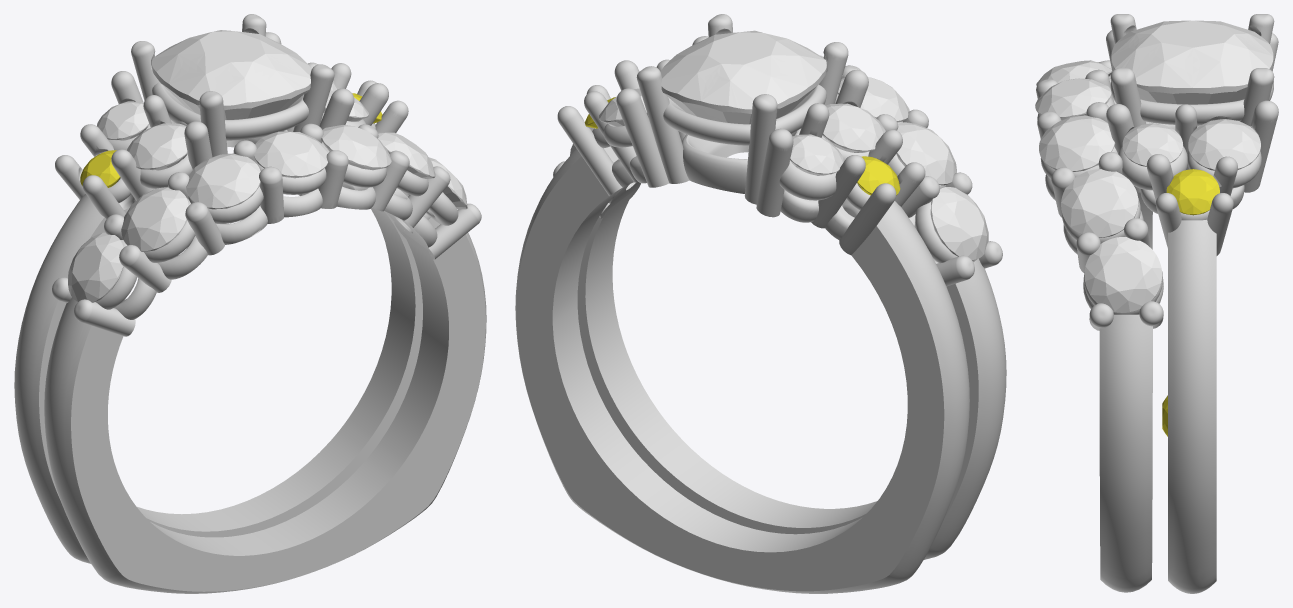
File: MarcPT7stone.glb
3 views of the same model, side by side, from view 1: azimuth 30°, elevation 25°; view 2: azimuth 150°, elevation 25°; view 3: azimuth 270°, elevation 25° (orthographic). The views are drawn at different scales.
Visible parts, largest first — view 1: 7 stone Sarah PT for 3d model, 7 stone Sarah dia for 3d model.011, 7 stone Sarah dia for 3d model.002, 7 stone Sarah dia for 3d model.001, 7 stone Sarah dia for 3d model, 7 stone Sarah dia for 3d model.003, 7 stone Sarah dia for 3d model.008, 7 stone Sarah dia for 3d model.004, 7 stone Sarah dia for 3d model.010, 7 stone Sarah dia for 3d model.005, 7 stone Sarah dia for 3d model.009, 7 stone Sarah dia for 3d model.006; view 2: 7 stone Sarah PT for 3d model, 7 stone Sarah dia for 3d model.011, 7 stone Sarah dia for 3d model, 7 stone Sarah dia for 3d model.001, 7 stone Sarah dia for 3d model.008, 7 stone Sarah dia for 3d model.010, 7 stone Sarah dia for 3d model.002, 7 stone Sarah dia for 3d model.009; view 3: 7 stone Sarah PT for 3d model, 7 stone Sarah dia for 3d model.011, 7 stone Sarah dia for 3d model.006, 7 stone Sarah dia for 3d model.005, 7 stone Sarah dia for 3d model.004, 7 stone Sarah dia for 3d model.013, 7 stone Sarah dia for 3d model.003, 7 stone Sarah dia for 3d model.014, 7 stone Sarah dia for 3d model.012, 7 stone Sarah dia for 3d model.002.
Part boxes in pixels (<box>): 7 stone Sarah PT for 3d model: <box>14,14,486,593</box>; 7 stone Sarah dia for 3d model.011: <box>152,30,311,119</box>; 7 stone Sarah dia for 3d model.002: <box>186,154,260,209</box>; 7 stone Sarah dia for 3d model.001: <box>121,187,189,251</box>; 7 stone Sarah dia for 3d model: <box>68,232,123,302</box>; 7 stone Sarah dia for 3d model.003: <box>254,131,328,178</box>; 7 stone Sarah dia for 3d model.008: <box>127,123,187,170</box>; 7 stone Sarah dia for 3d model.004: <box>321,125,391,170</box>; 7 stone Sarah dia for 3d model.010: <box>97,101,149,140</box>; 7 stone Sarah dia for 3d model.005: <box>378,132,435,178</box>; 7 stone Sarah dia for 3d model.009: <box>80,150,120,187</box>; 7 stone Sarah dia for 3d model.006: <box>429,157,467,209</box>; 7 stone Sarah PT for 3d model: <box>515,14,1006,593</box>; 7 stone Sarah dia for 3d model.011: <box>661,30,826,124</box>; 7 stone Sarah dia for 3d model: <box>930,187,988,260</box>; 7 stone Sarah dia for 3d model.001: <box>896,122,956,185</box>; 7 stone Sarah dia for 3d model.008: <box>822,103,885,152</box>; 7 stone Sarah dia for 3d model.010: <box>789,134,843,175</box>; 7 stone Sarah dia for 3d model.002: <box>837,77,909,122</box>; 7 stone Sarah dia for 3d model.009: <box>857,156,900,195</box>; 7 stone Sarah PT for 3d model: <box>1036,14,1278,593</box>; 7 stone Sarah dia for 3d model.011: <box>1111,20,1273,125</box>; 7 stone Sarah dia for 3d model.006: <box>1084,237,1161,312</box>; 7 stone Sarah dia for 3d model.005: <box>1061,169,1138,237</box>; 7 stone Sarah dia for 3d model.004: <box>1039,115,1115,171</box>; 7 stone Sarah dia for 3d model.013: <box>1188,119,1260,170</box>; 7 stone Sarah dia for 3d model.003: <box>1035,78,1111,120</box>; 7 stone Sarah dia for 3d model.014: <box>1122,123,1183,166</box>; 7 stone Sarah dia for 3d model.012: <box>1166,169,1219,215</box>; 7 stone Sarah dia for 3d model.002: <box>1036,60,1112,85</box>.
Bounding box in the file's own units: 20.9 × 23.67 × 10.04.
